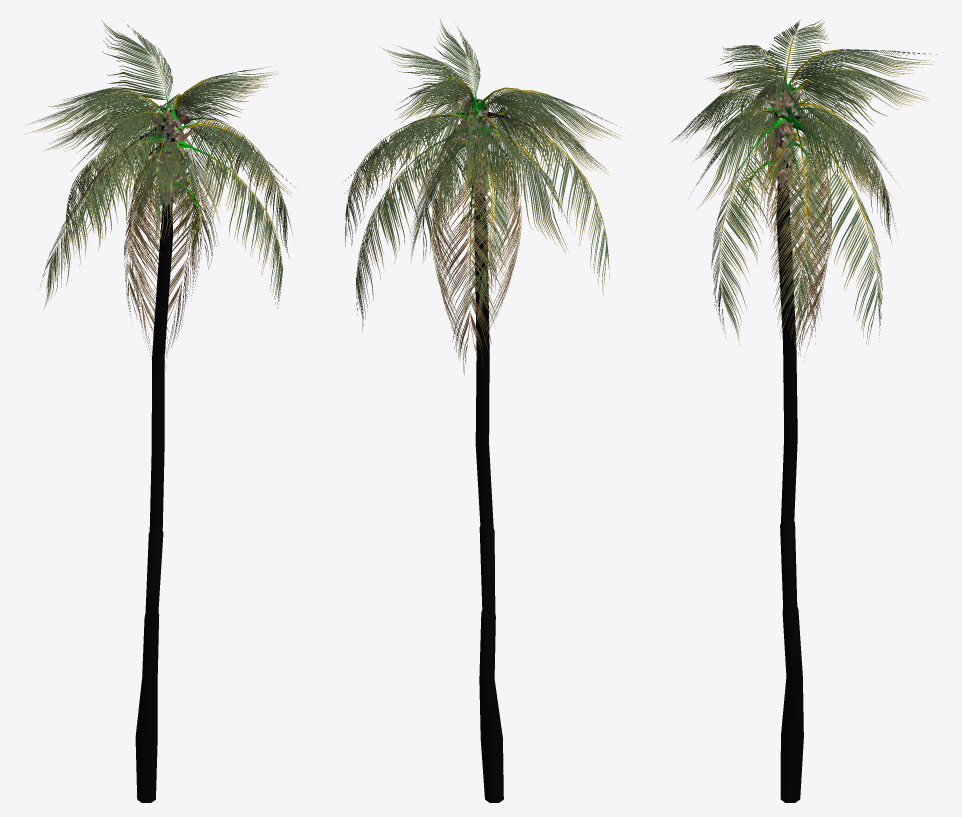
Rendered from tree_test.fbx.
3 renders of one model, left to right at view 1: azimuth 30°, elevation 25°; view 2: azimuth 150°, elevation 25°; view 3: azimuth 270°, elevation 25°, orthographic. The views are drawn at different scales.
Visible parts, largest first — view 1: coconut_palm2_1, coconut_palm1_0; view 2: coconut_palm2_1, coconut_palm1_0; view 3: coconut_palm2_1, coconut_palm1_0.
Part boxes in pixels (x1,y1,x2,y2): coconut_palm2_1: (24, 19, 297, 370); coconut_palm1_0: (107, 88, 239, 802); coconut_palm2_1: (343, 17, 622, 374); coconut_palm1_0: (400, 86, 546, 802); coconut_palm2_1: (670, 19, 937, 361); coconut_palm1_0: (736, 63, 844, 802).
Bounding box in the file's own units: 456 × 1190 × 397.
1 material, 1 textured.
